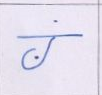anusvara: (54, 20, 57, 22)
